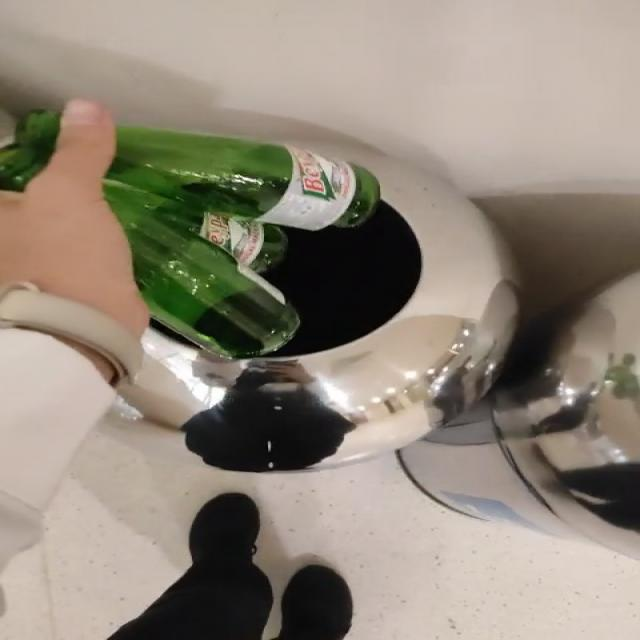bin: (120, 141, 517, 472)
glass: (103, 126, 380, 358), (0, 109, 59, 190)
